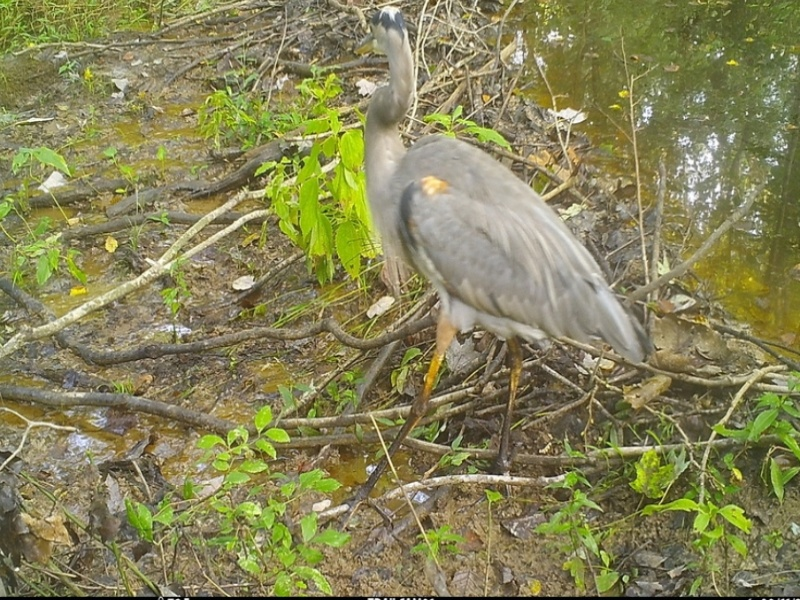heron: (339, 3, 650, 536)
